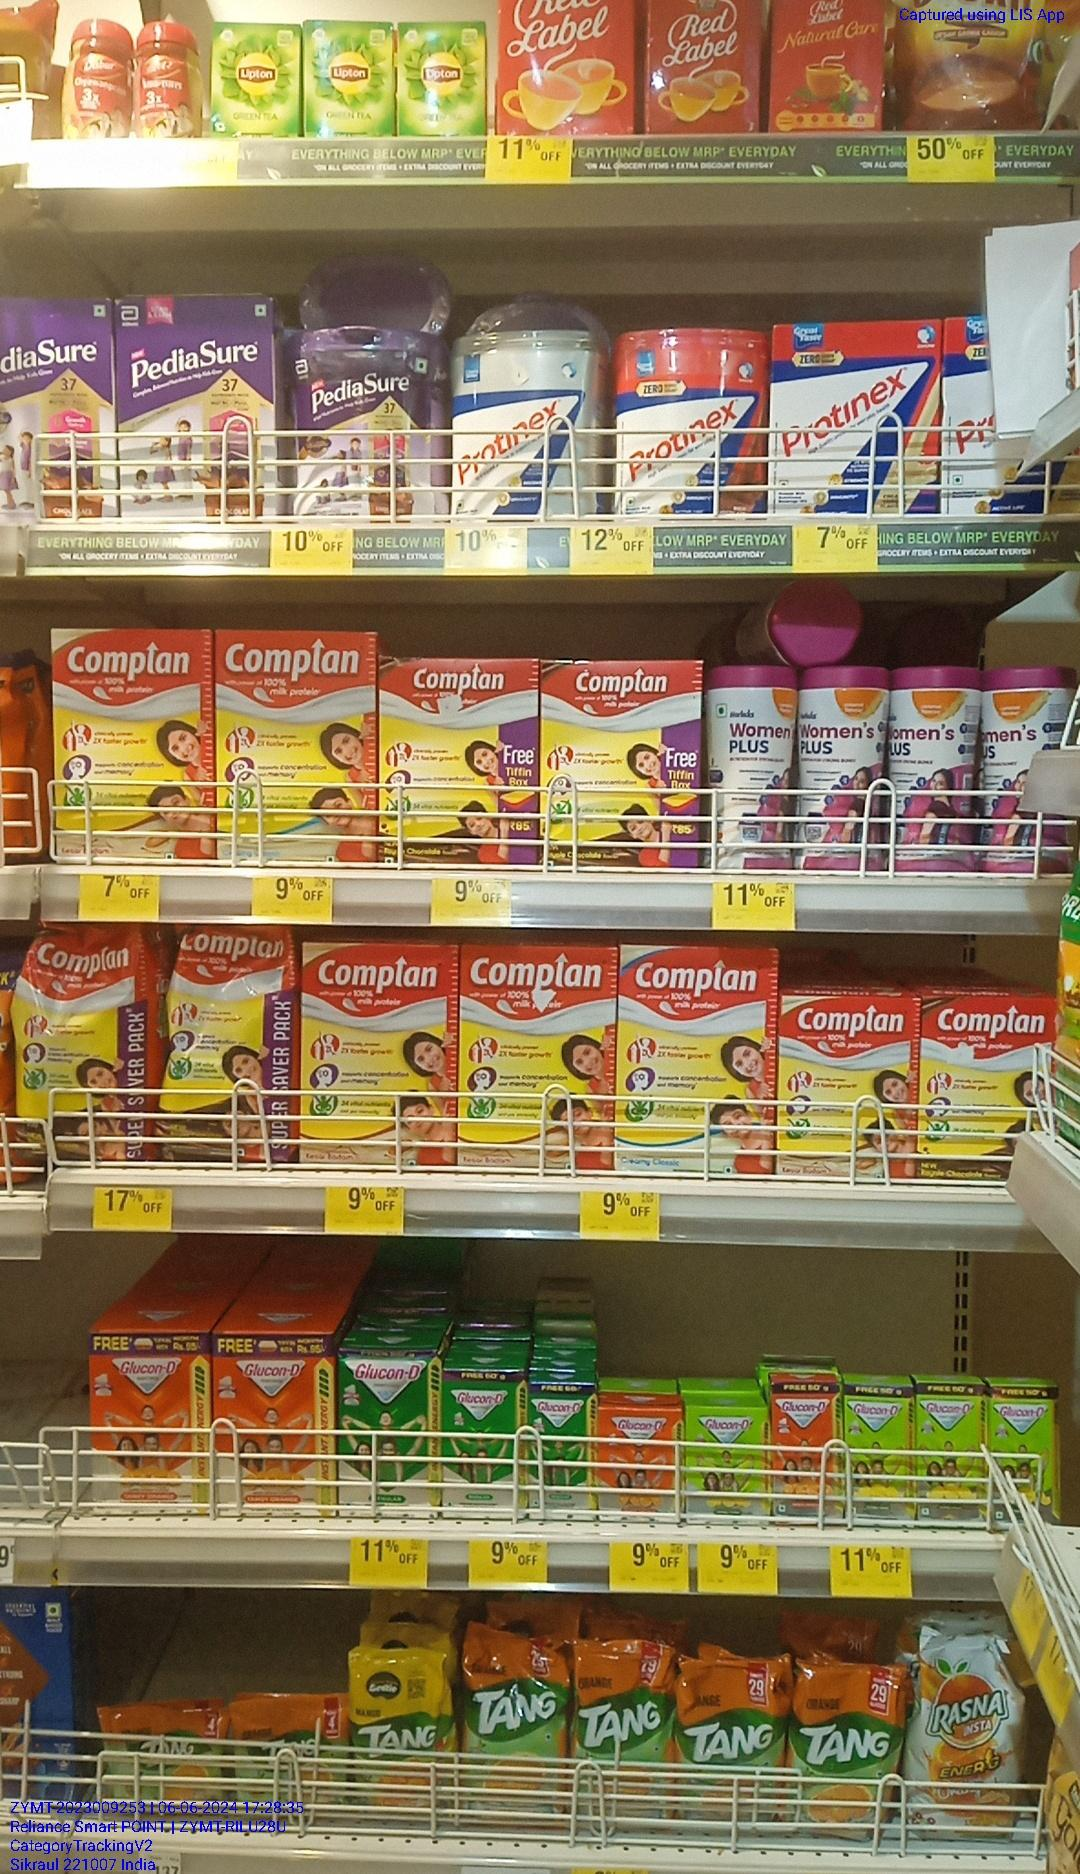COMPLAN_CHOCOLATE_200_GMS_PACK: (542, 659, 700, 865), (380, 656, 535, 862), (922, 996, 1059, 1180)
COMPLAN_CREAMY_CLASSIC_500_G_PACK: (215, 631, 377, 864), (620, 947, 768, 1178)
COMPLAN_KESAR_BADAM_200_GMS_PACK: (781, 995, 917, 1180)
COMPLAN_KESAR_BADAM_500_GMS_PACK: (48, 627, 212, 864), (301, 943, 458, 1170), (462, 946, 611, 1176)
COMPLAN_RC_POUCH_700_GMS_12: (14, 922, 151, 1165), (165, 928, 293, 1170)
PEDIASURE_7_PLUS_CHOCOLATE_400_G_PACK: (118, 292, 272, 526), (0, 297, 113, 521)
PROTINEX_CHOCOLATE_400_G_JAR: (611, 328, 762, 516)
PROTINEX_ORIGINAL_400_G_JAR: (453, 331, 601, 520)
